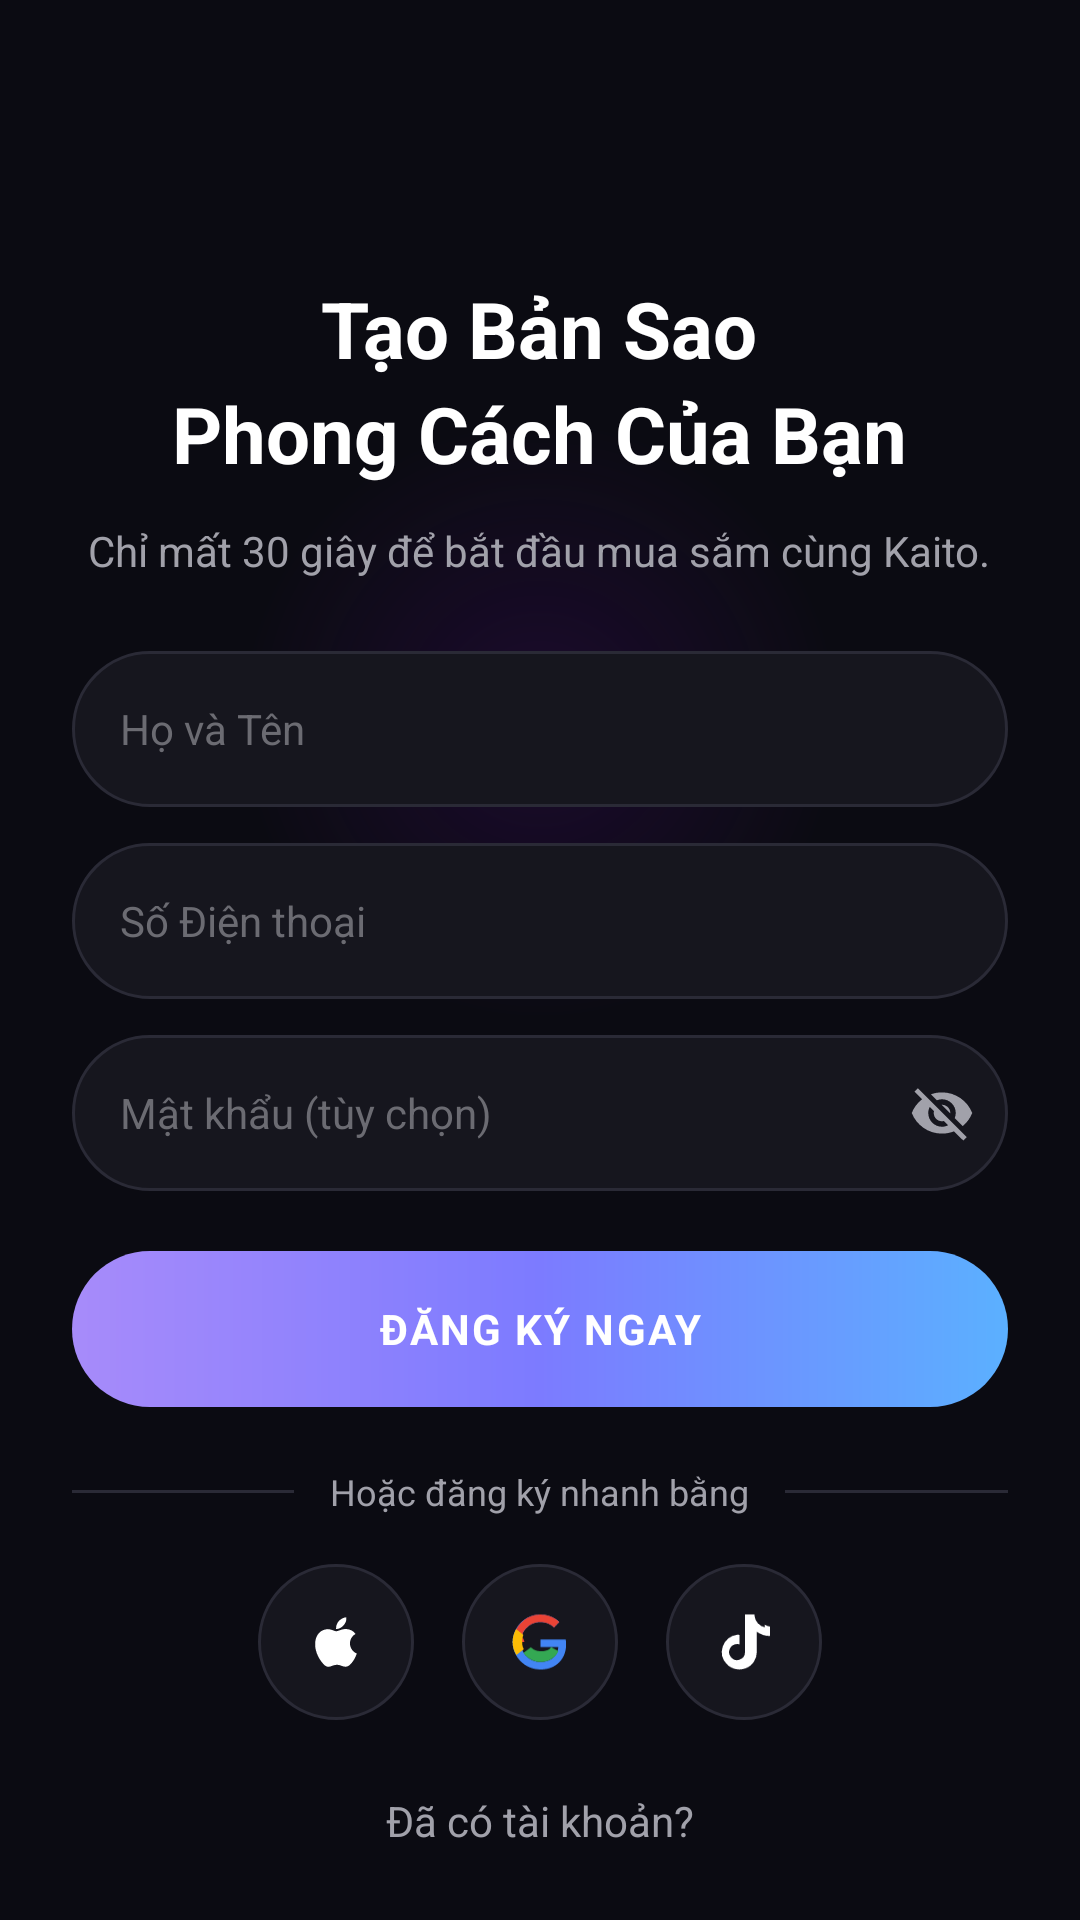

Screen size 1080*1920. Icon name, then its center in pixels as [x,y]:
eye off: [942,1114]
